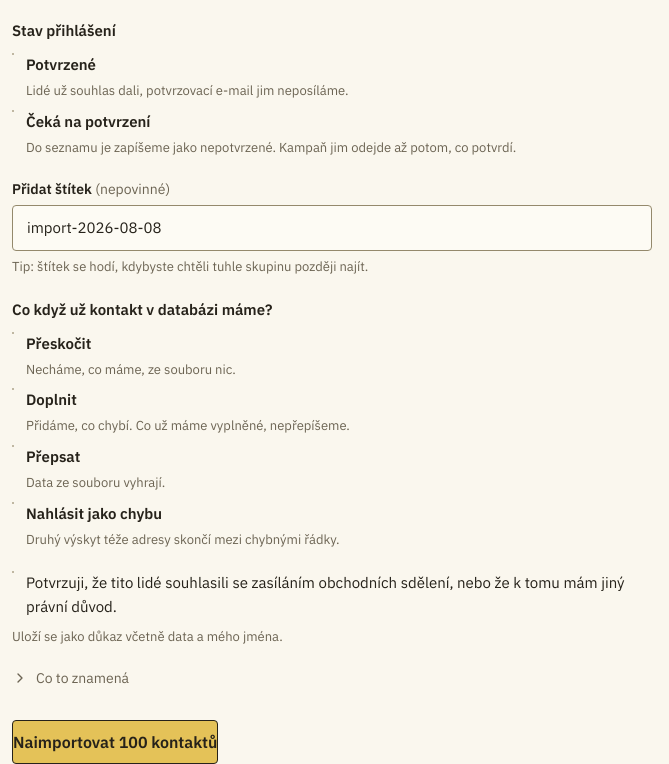
options step › refuses to submit without a list
The width and height of the screenshot is (669, 764).
(page scrolled)
Click the button "Naimportovat 100 kontaktů": (115, 742) [12,720,218,763]
(page scrolled)
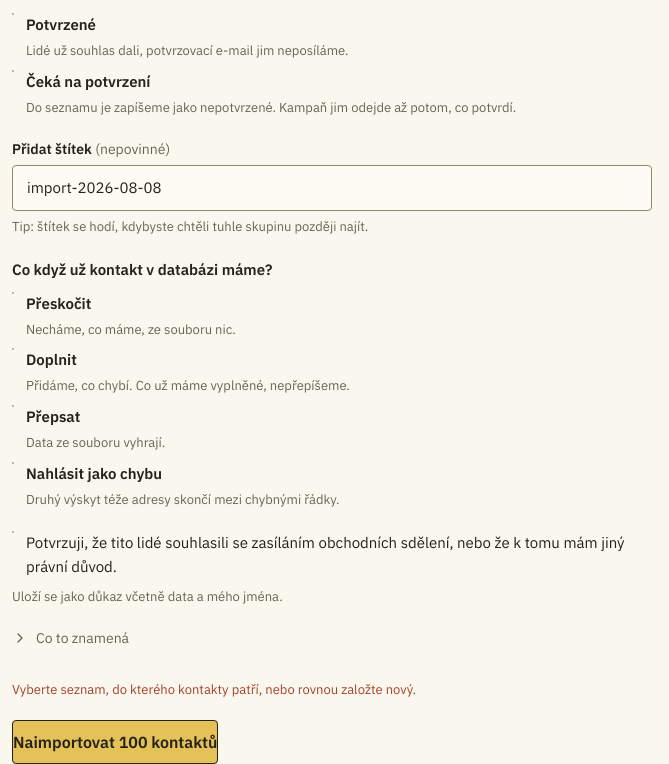
Now the message shows "Vyberte seznam", box [12,681,416,698]
